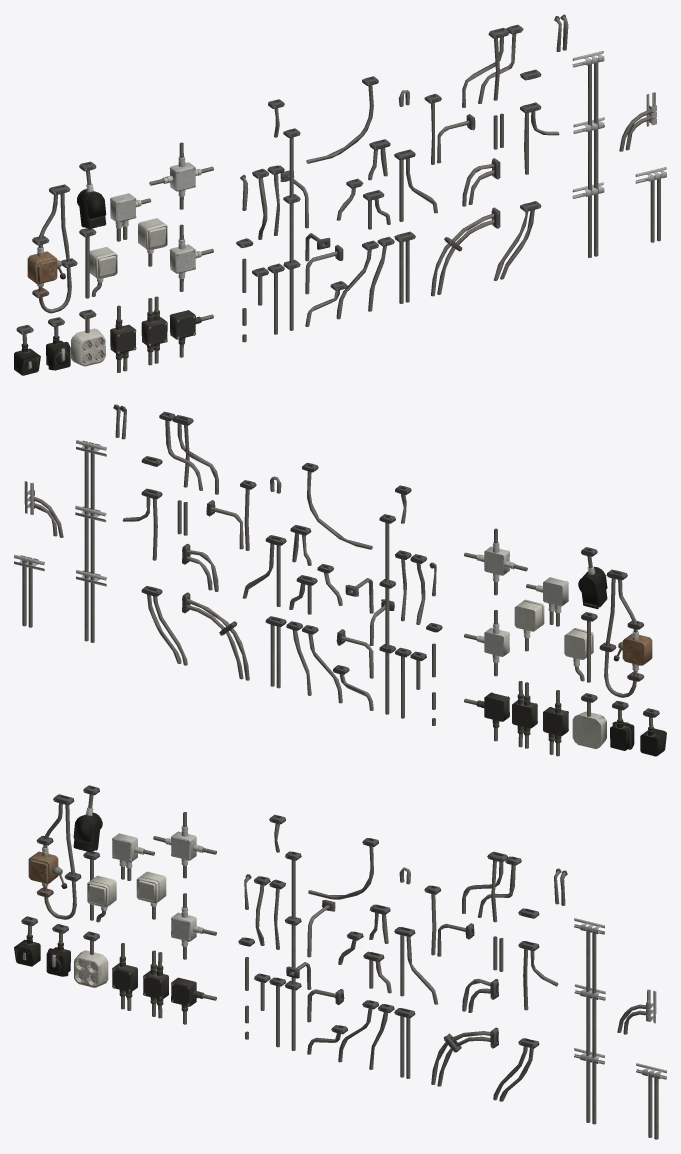
File: modular_electric_cables.glb
3 views of the same model, one above another, from view 1: azimuth 30°, elevation 25°; view 2: azimuth 150°, elevation 25°; view 3: azimuth 330°, elevation 25° (orthographic).
Parts seen in each view (by area): view 1: cable_straight_medium, cable_box_3way; view 2: cable_straight_medium, cable_box_3way; view 3: cable_straight_medium, cable_box_3way.
Part boxes in pixels (left/top/right/bottom): cable_straight_medium: left=236, top=14, right=666, bottom=342; cable_box_3way: left=14, top=142, right=213, bottom=375; cable_straight_medium: left=14, top=404, right=442, bottom=725; cable_box_3way: left=464, top=528, right=666, bottom=756; cable_straight_medium: left=238, top=814, right=666, bottom=1139; cable_box_3way: left=14, top=785, right=216, bottom=1024.
Bounding box in the file's own units: 2.08 × 0.7573 × 0.2145.
2 materials, 2 textured.
